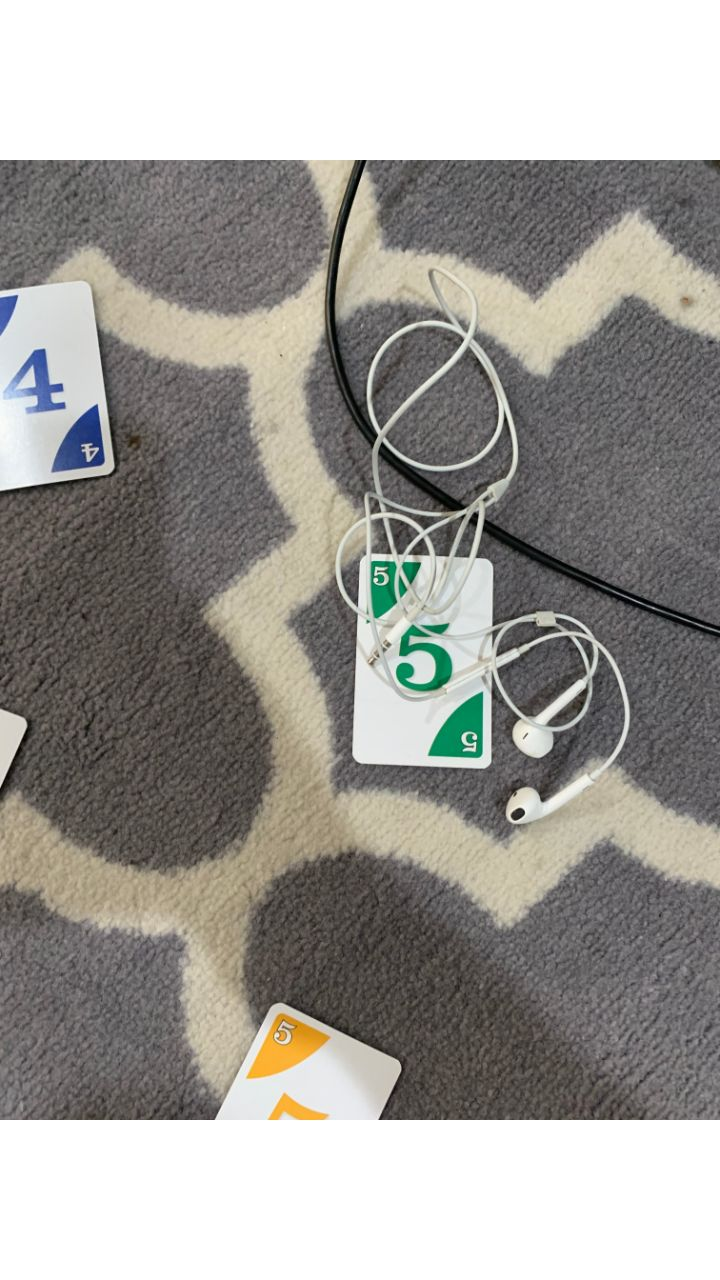five: (349, 554, 496, 771)
four: (2, 285, 118, 493)
